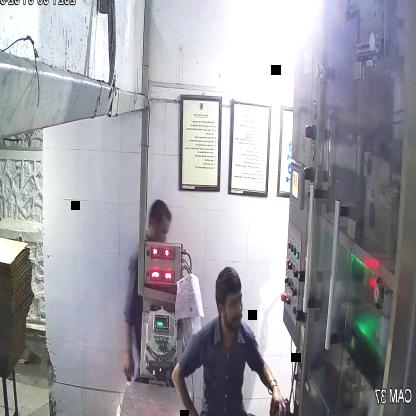no_goggles: (215, 290, 248, 315)
